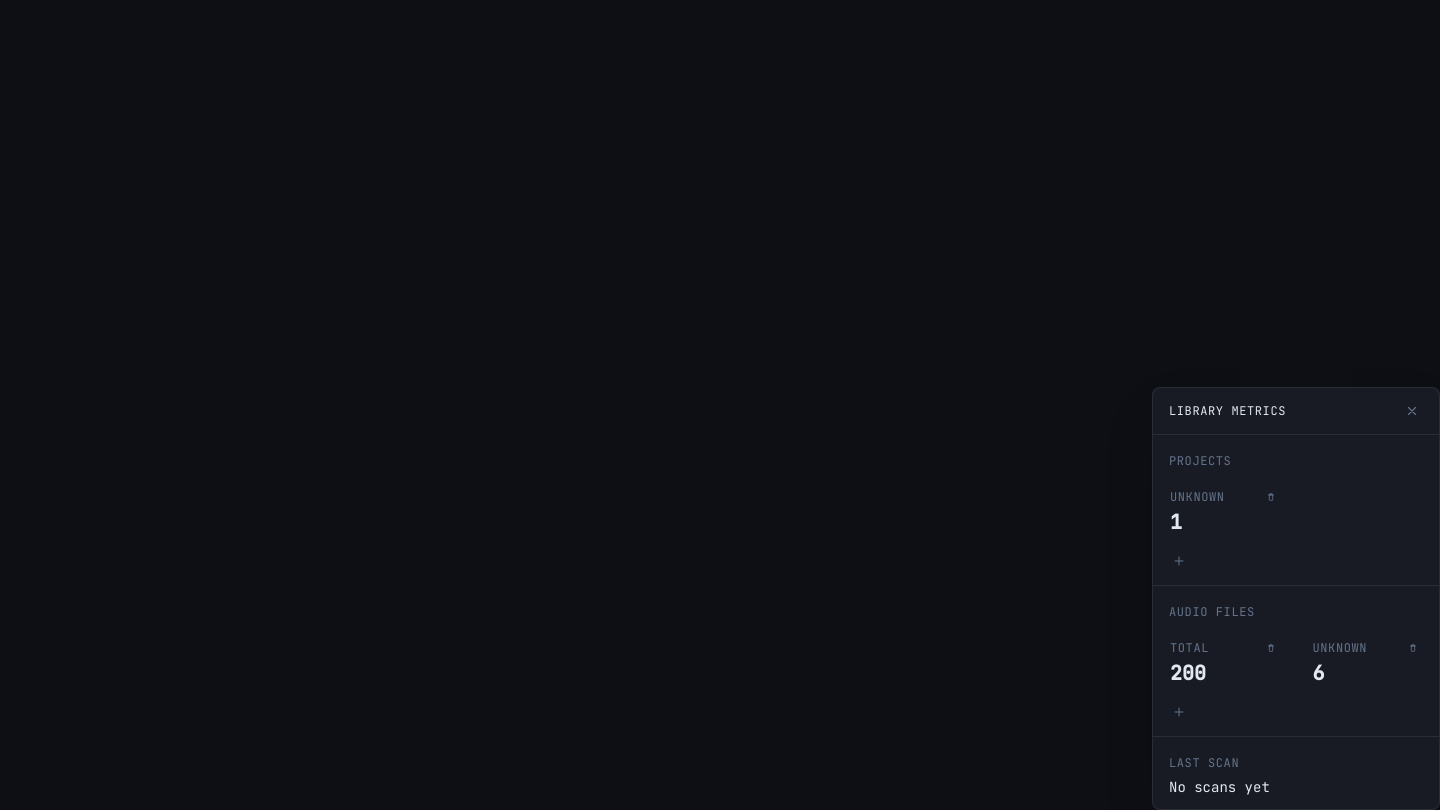
Test: MetricsPanel - add flow › adds a total metric to a section that doesn't already have one
(page scrolled)
Click the button named "Add metric to Projects". click: [1179, 561]
box: [1169,553,1189,569]
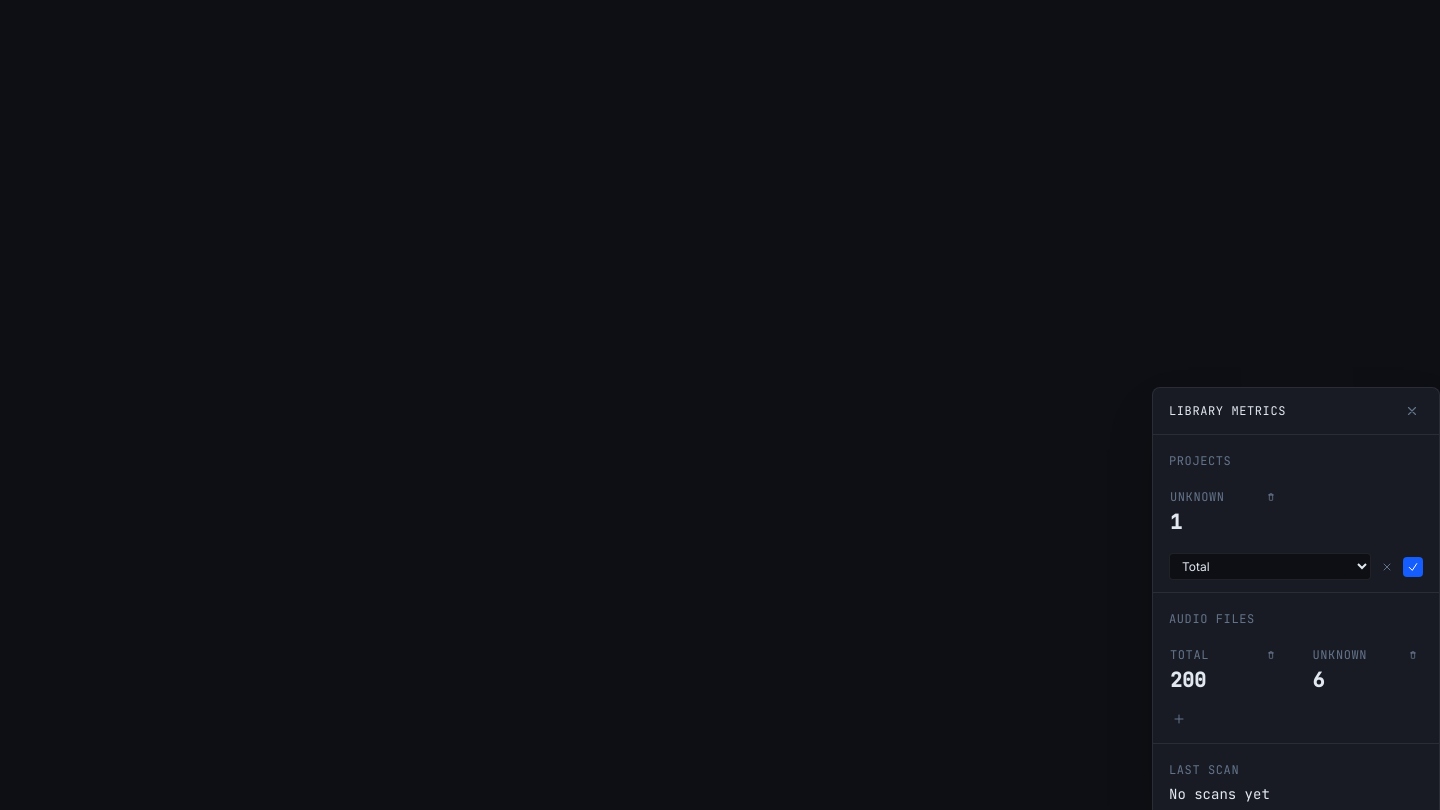
Now the dropdown named "New Projects metric type" shows "Total", box [1169,553,1371,580]
Click the button named "Confirm adding Projects metric". click: [1413, 566]
box: [1403,556,1423,576]
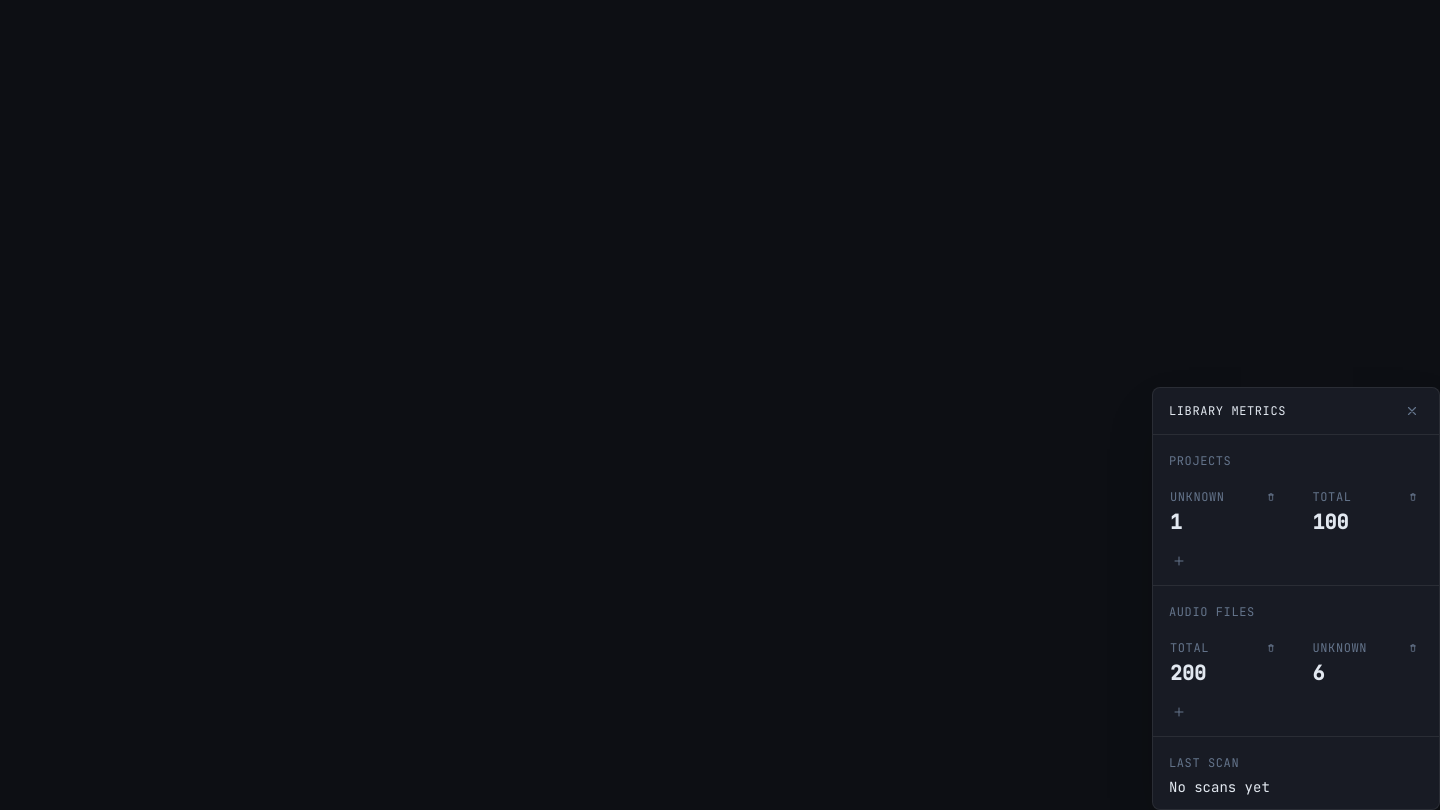
Now the text "Total" below "Projects" is shown, box [1312,489,1352,505]
